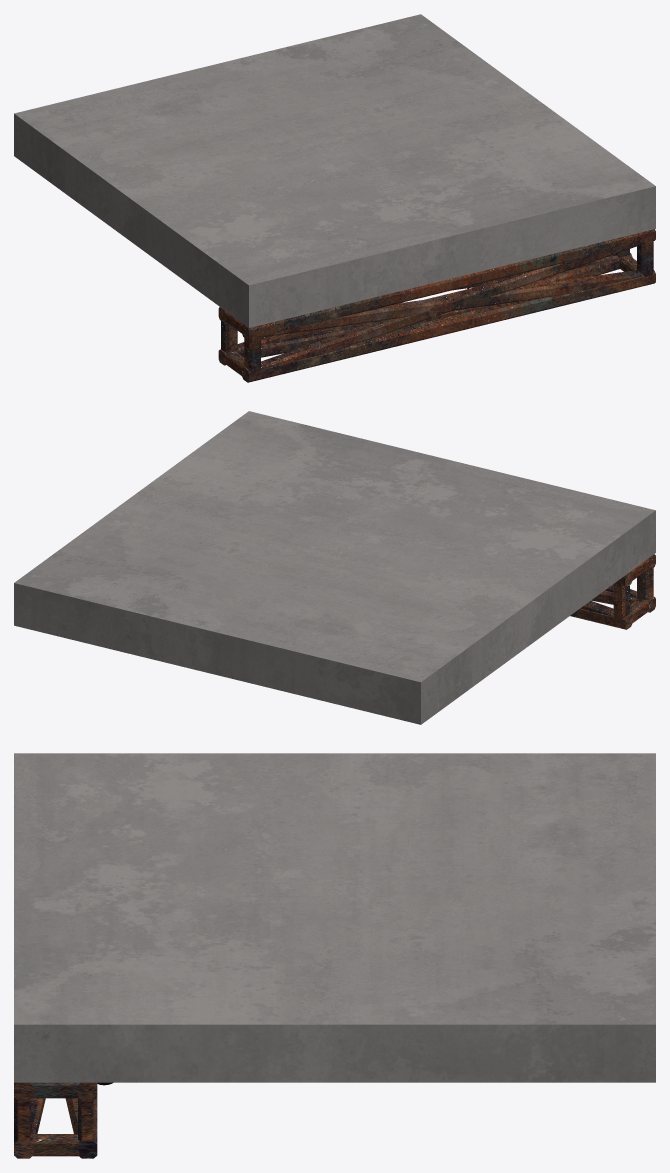
Rendered from ceiling_light.fbx.
3 views of the same model, one above another, from view 1: azimuth 30°, elevation 25°; view 2: azimuth 150°, elevation 25°; view 3: azimuth 270°, elevation 25° (orthographic). The views are drawn at different scales.
Visible parts, largest first — view 1: Plane.005; view 2: Plane.005; view 3: Plane.005.
Boxes of the visible parts, bbox=[...] form: Plane.005: bbox=[14, 14, 655, 382]; Plane.005: bbox=[14, 411, 655, 724]; Plane.005: bbox=[14, 753, 655, 1158].
Size of the model in its own units: 400 by 110 by 400.
